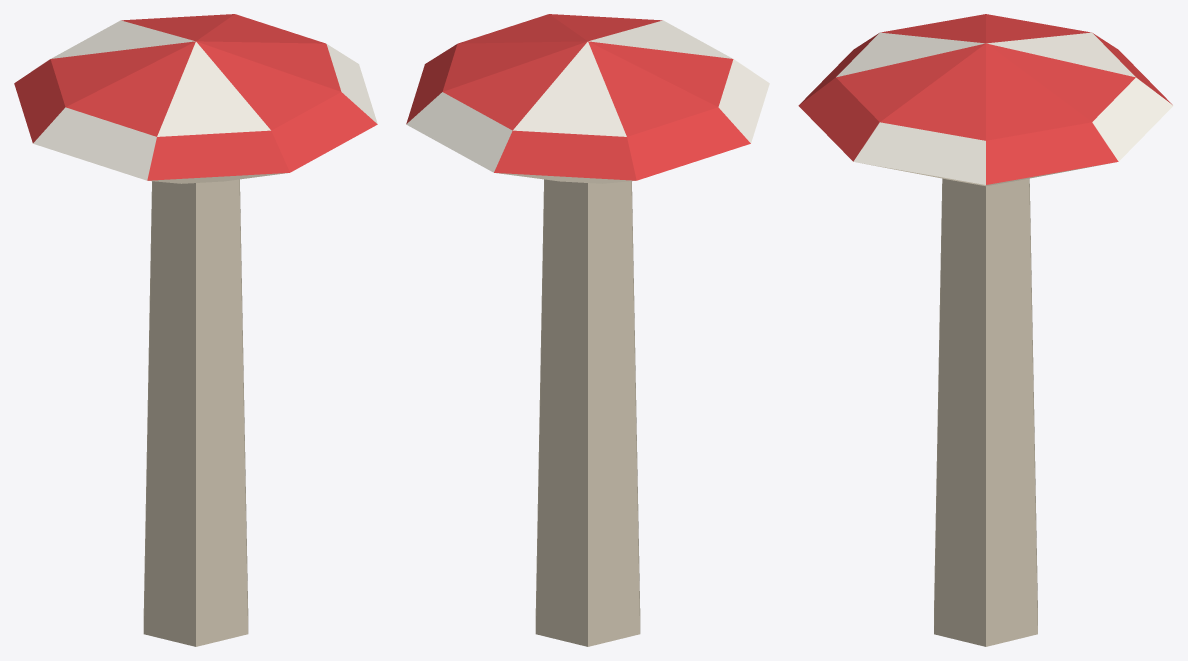
The model's file is mushroom_redTall.glb.
3 renders of one model, left to right at view 1: azimuth 30°, elevation 25°; view 2: azimuth 150°, elevation 25°; view 3: azimuth 270°, elevation 25°, orthographic.
Visible parts, largest first — view 1: mushroom_redTall; view 2: mushroom_redTall; view 3: mushroom_redTall.
Part boxes in pixels (x1,y1,x2,y2): mushroom_redTall: [14, 14, 377, 646]; mushroom_redTall: [406, 14, 769, 646]; mushroom_redTall: [798, 14, 1173, 646].
Bounding box in the file's own units: 0.12 × 0.204 × 0.12.
1 material, 1 textured.
